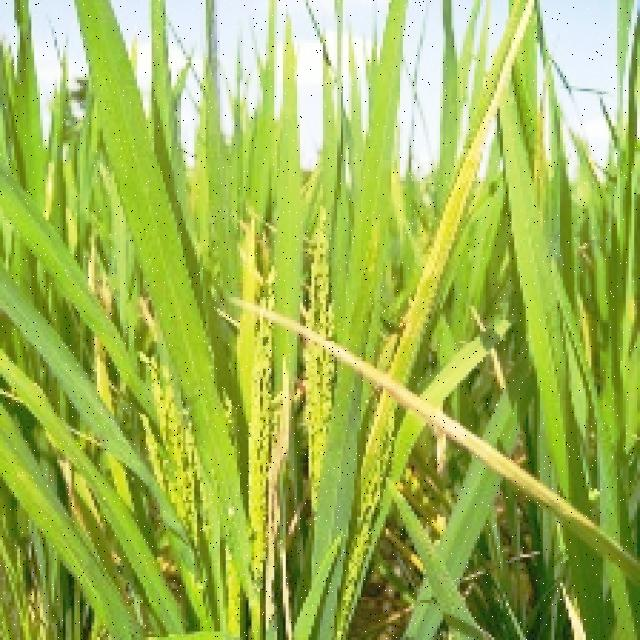unhealth: (390, 0, 532, 385)
